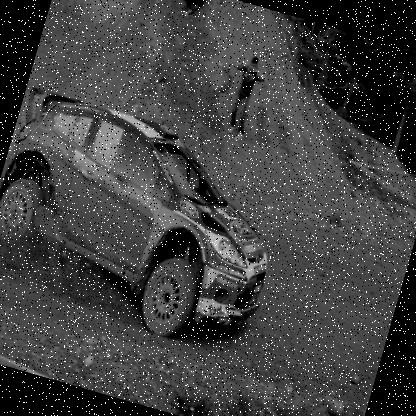Car: (0, 87, 304, 362)
